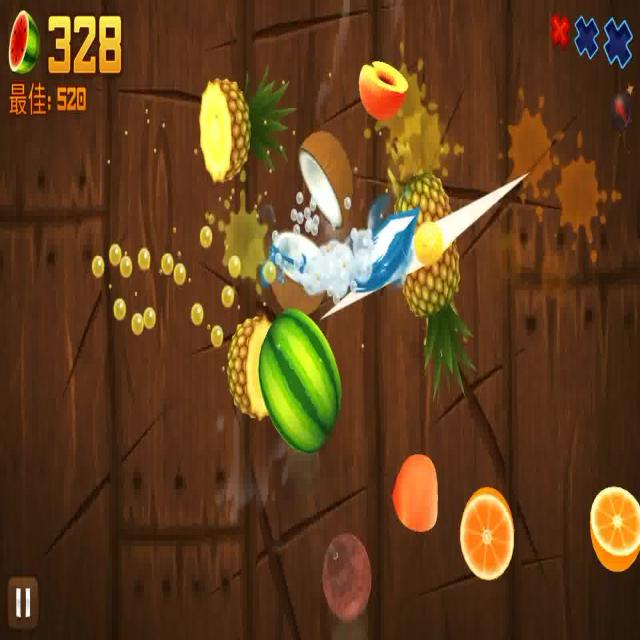fruit: (395, 174, 481, 396), (260, 311, 347, 454), (187, 64, 290, 182), (227, 288, 273, 430), (454, 474, 515, 580), (577, 474, 640, 573), (311, 538, 382, 625), (262, 245, 346, 315), (391, 436, 444, 544), (302, 124, 354, 230), (352, 55, 423, 117)
